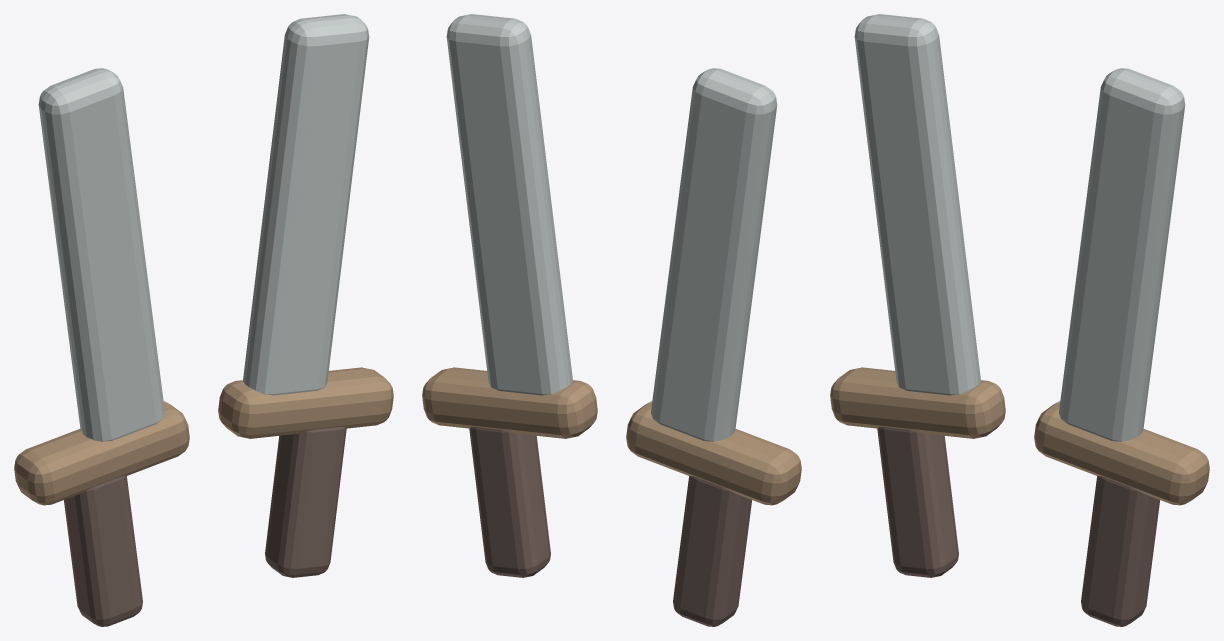
The model's file is scout-knives.glb.
3 renders of one model, left to right at view 1: azimuth 30°, elevation 25°; view 2: azimuth 150°, elevation 25°; view 3: azimuth 330°, elevation 25°, orthographic.
Visible parts, largest first — view 1: DaggerBlade_1, DaggerBlade_-1, DaggerGrip_1, DaggerGrip_-1, DaggerGuard_-1, DaggerGuard_1; view 2: DaggerBlade_1, DaggerBlade_-1, DaggerGrip_1, DaggerGrip_-1, DaggerGuard_-1, DaggerGuard_1; view 3: DaggerBlade_-1, DaggerBlade_1, DaggerGrip_-1, DaggerGrip_1, DaggerGuard_1, DaggerGuard_-1.
Part boxes in pixels (x1=…): DaggerBlade_1: x1=243, y1=14, x2=369, y2=395; DaggerBlade_-1: x1=38, y1=68, x2=164, y2=441; DaggerGrip_1: x1=265, y1=427, x2=346, y2=577; DaggerGrip_-1: x1=64, y1=476, x2=142, y2=626; DaggerGuard_-1: x1=14, y1=401, x2=189, y2=505; DaggerGuard_1: x1=218, y1=367, x2=393, y2=438; DaggerBlade_1: x1=446, y1=14, x2=572, y2=395; DaggerBlade_-1: x1=651, y1=68, x2=777, y2=441; DaggerGrip_1: x1=469, y1=427, x2=550, y2=577; DaggerGrip_-1: x1=673, y1=476, x2=751, y2=626; DaggerGuard_-1: x1=626, y1=401, x2=801, y2=505; DaggerGuard_1: x1=422, y1=367, x2=597, y2=438; DaggerBlade_-1: x1=854, y1=14, x2=980, y2=395; DaggerBlade_1: x1=1059, y1=68, x2=1185, y2=441; DaggerGrip_-1: x1=877, y1=427, x2=958, y2=577; DaggerGrip_1: x1=1081, y1=476, x2=1159, y2=626; DaggerGuard_1: x1=1034, y1=401, x2=1209, y2=505; DaggerGuard_-1: x1=830, y1=367, x2=1005, y2=438.
Size of the model in its own units: 1.14 by 1.65 by 0.16.
